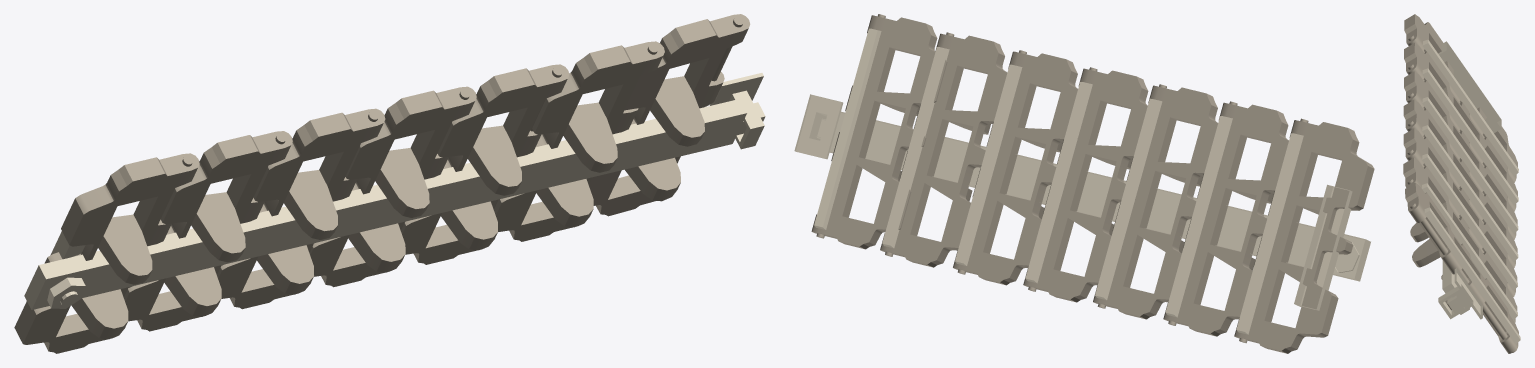
Rendered from AddOnTrackBigHZ2.fbx.
3 views of the same model, side by side, from view 1: azimuth 30°, elevation 25°; view 2: azimuth 150°, elevation 25°; view 3: azimuth 270°, elevation 25° (orthographic). The views are drawn at different scales.
Visible parts, largest first — view 1: AddOnTrack3; view 2: AddOnTrack3; view 3: AddOnTrack3.
Part boxes in pixels (left/top/right/bottom): AddOnTrack3: left=14, top=14, right=765, bottom=353; AddOnTrack3: left=794, top=14, right=1374, bottom=353; AddOnTrack3: left=1403, top=14, right=1520, bottom=353.
Size of the model in its own units: 68.96 by 311 by 101.
